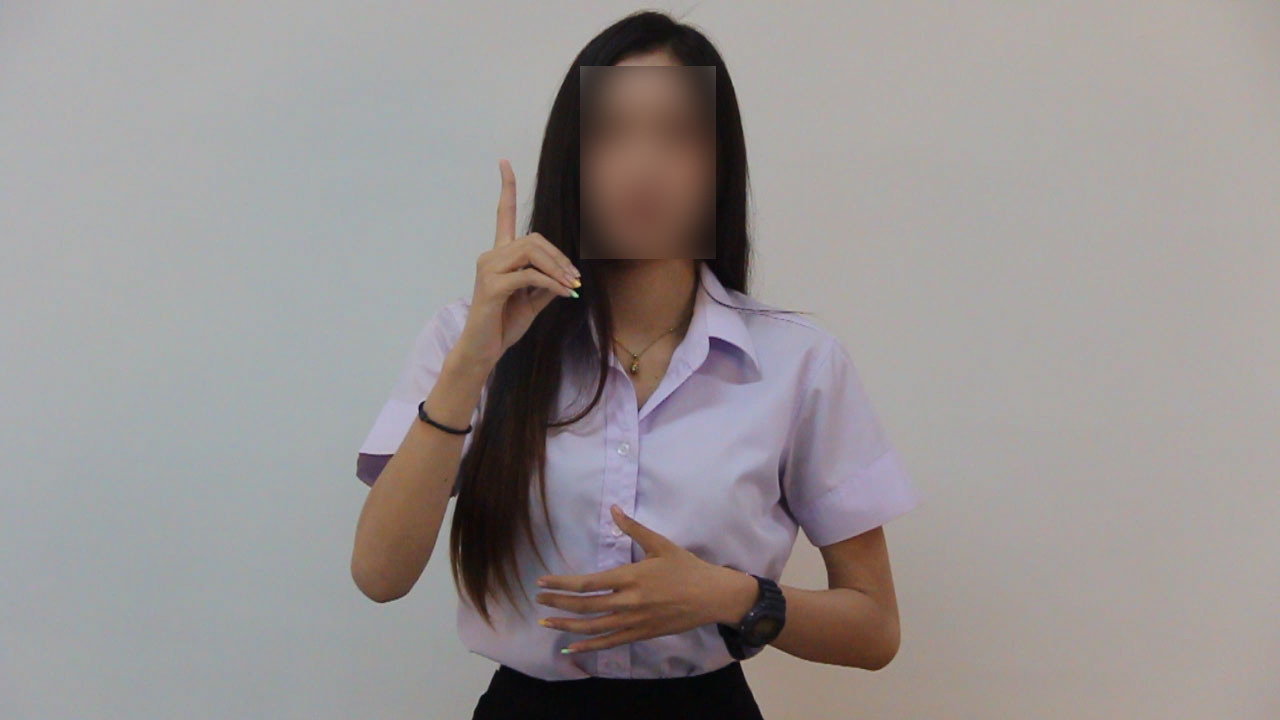dor: (449, 151, 589, 355)
